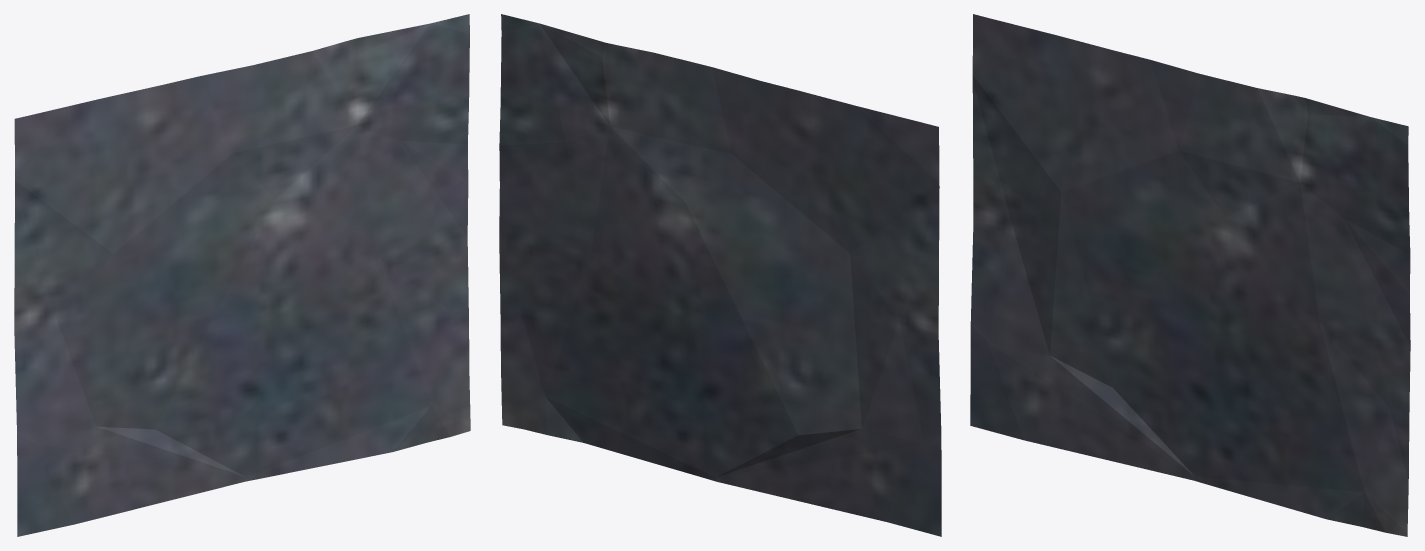
File: Tile_+001_+006_L24_0000200.obj
The picture shows the model from 3 angles, left to right: view 1: azimuth 30°, elevation 25°; view 2: azimuth 150°, elevation 25°; view 3: azimuth 330°, elevation 25°; orthographic projection.
Bounding box in the file's own units: 1.08 × 0.9531 × 0.0428.
1 material, 1 textured.
